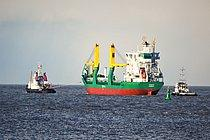Ship: (79, 36, 167, 97)
